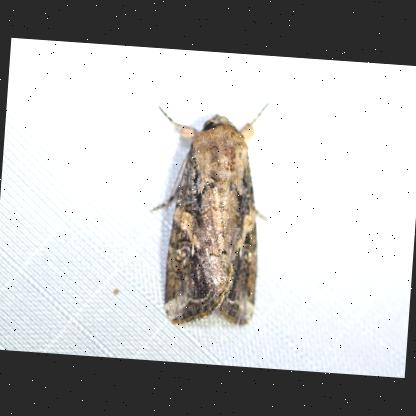Fall Armyworm Moth: (140, 89, 280, 334)
